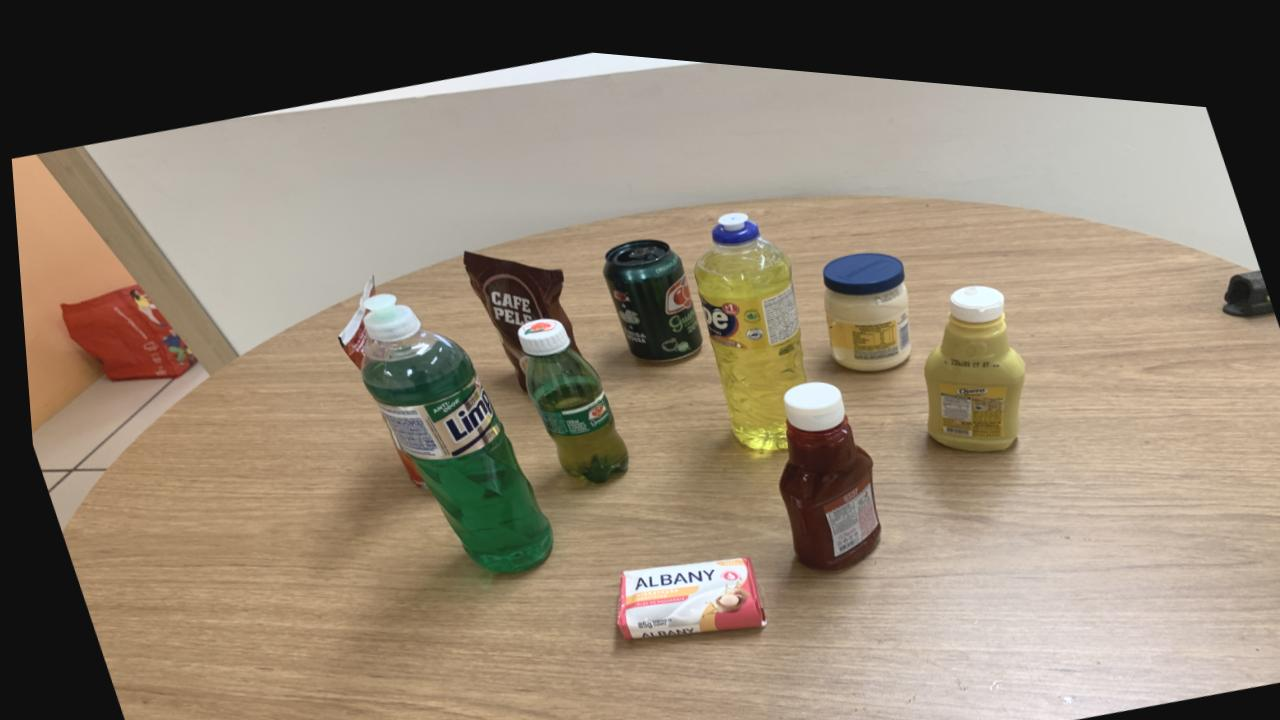Coffee-Pantry_Items: (460, 244, 575, 381)
Detergent-Cleanup_Items: (357, 288, 546, 564), (690, 198, 802, 437)
Guarana-Drinks: (513, 308, 623, 473)
Guarana_Can-Drinks: (599, 227, 699, 350)
Ketchup-Pantry_Items: (773, 367, 874, 555)
Mayonnaise-Pantry_Items: (820, 236, 908, 356)
Mustard-Pantry_Items: (919, 267, 1021, 434)
Soap-Cleanup_Items: (608, 544, 758, 628)
Tomato_Sauce-Pantry_Items: (333, 269, 372, 362)
